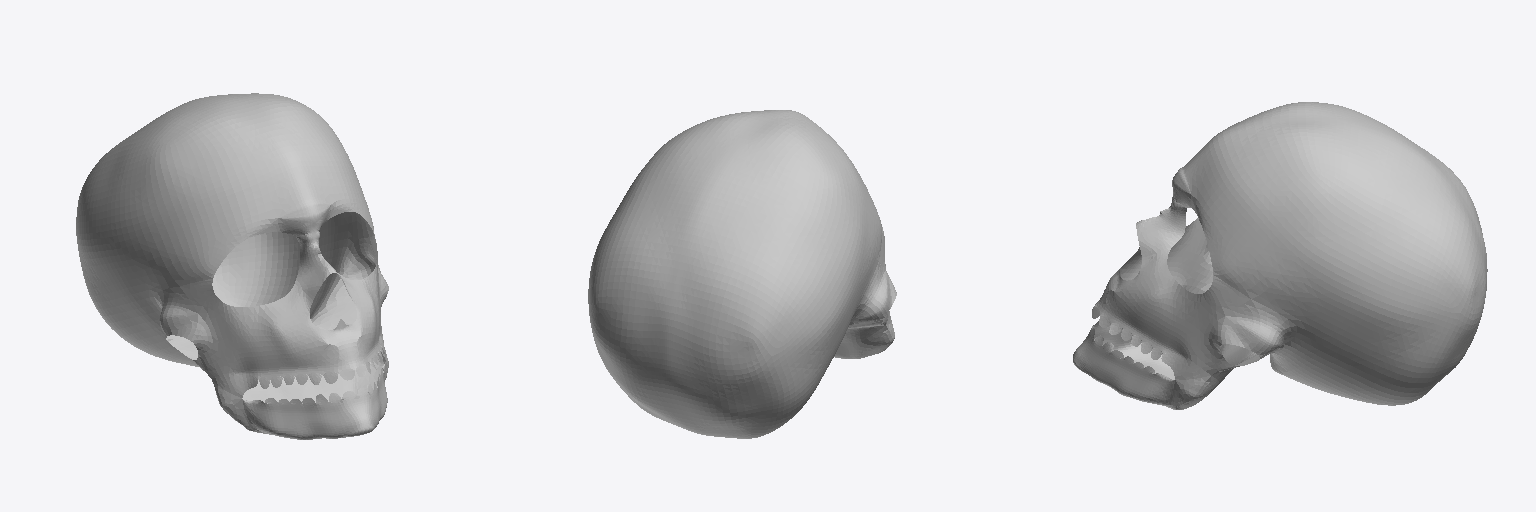
File: skull.obj
3 views of the same model, side by side, from view 1: azimuth 30°, elevation 25°; view 2: azimuth 150°, elevation 25°; view 3: azimuth 270°, elevation 25° (orthographic).
Visible parts, largest first — view 1: skull:Mesh; view 2: skull:Mesh; view 3: skull:Mesh.
Boxes of the visible parts, x1,y1,x2,y2 form: skull:Mesh: [76, 93, 388, 439]; skull:Mesh: [588, 110, 896, 438]; skull:Mesh: [1073, 102, 1487, 409].
Size of the model in its own units: 1.04 by 1.19 by 1.62.